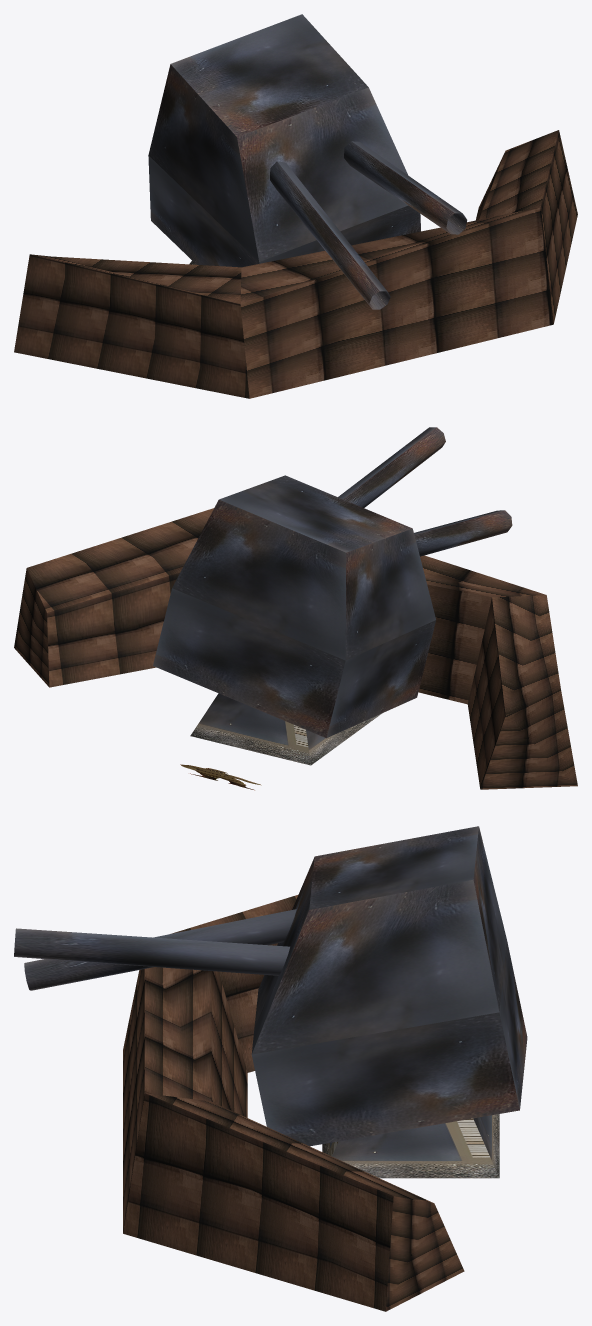
File: aagunruin.gltf
3 renders of one model, top to bottom at view 1: azimuth 30°, elevation 25°; view 2: azimuth 150°, elevation 25°; view 3: azimuth 270°, elevation 25°, orthographic. The views are drawn at different scales.
Visible parts, largest first — view 1: aagunruin_atomic1, aagunruin_atomic0; view 2: aagunruin_atomic0, aagunruin_atomic1; view 3: aagunruin_atomic0, aagunruin_atomic1.
Part boxes in pixels (bbox=[...]): aagunruin_atomic1: bbox=[14, 130, 577, 398]; aagunruin_atomic0: bbox=[148, 14, 467, 309]; aagunruin_atomic0: bbox=[153, 427, 512, 738]; aagunruin_atomic1: bbox=[14, 508, 577, 790]; aagunruin_atomic0: bbox=[14, 826, 527, 1146]; aagunruin_atomic1: bbox=[123, 895, 499, 1311].
Bounding box in the file's own units: 38.53 × 15.79 × 27.04.
Materials: 4 (4 with a texture image).
